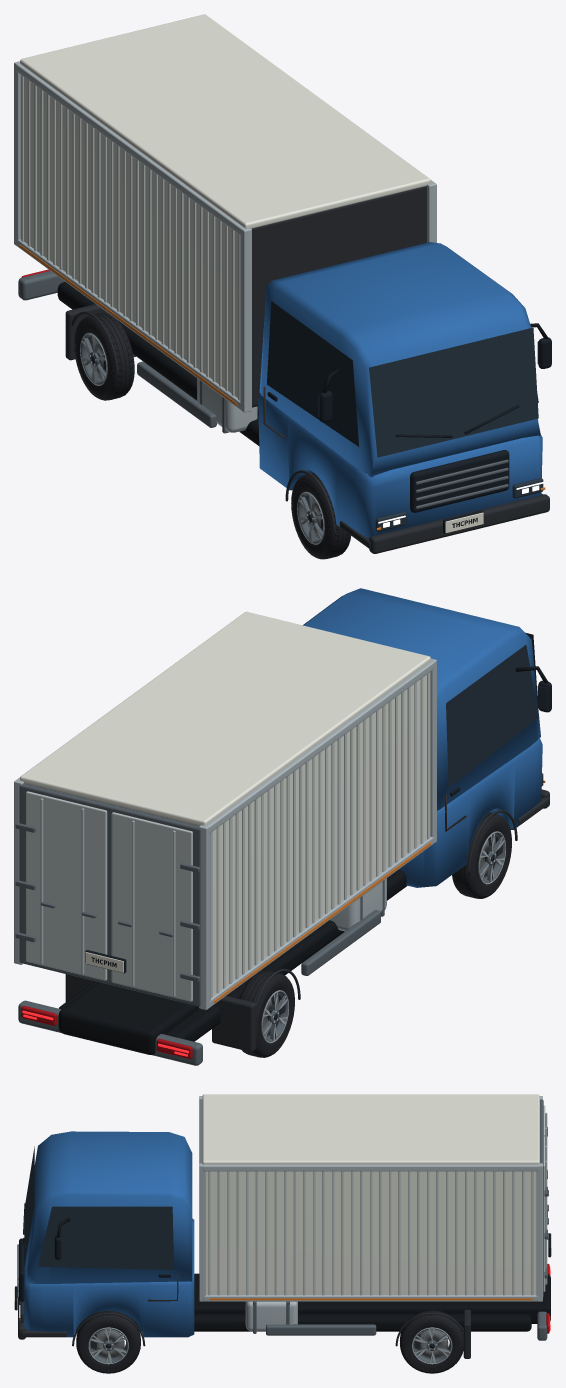
The model's file is truck.glb.
3 renders of one model, top to bottom at view 1: azimuth 30°, elevation 25°; view 2: azimuth 150°, elevation 25°; view 3: azimuth 270°, elevation 25°, orthographic. The views are drawn at different scales.
Parts seen in each view (by area): view 1: body, wheel_RR, wheel_FR; view 2: body, wheel_FR, wheel_RR; view 3: body, wheel_RL, wheel_FL.
Boxes of the visible parts, x1=… form: body: x1=14, y1=14, x2=551, y2=553; wheel_RR: x1=74, y1=313, x2=134, y2=400; wheel_FR: x1=291, y1=473, x2=350, y2=559; body: x1=14, y1=588, x2=551, y2=1065; wheel_FR: x1=452, y1=812, x2=511, y2=898; wheel_RR: x1=239, y1=970, x2=294, y2=1057; body: x1=14, y1=1094, x2=551, y2=1358; wheel_RL: x1=400, y1=1310, x2=463, y2=1373; wheel_FL: x1=76, y1=1311, x2=140, y2=1373.
Size of the model in its own units: 2.83 by 3.37 by 7.65.
